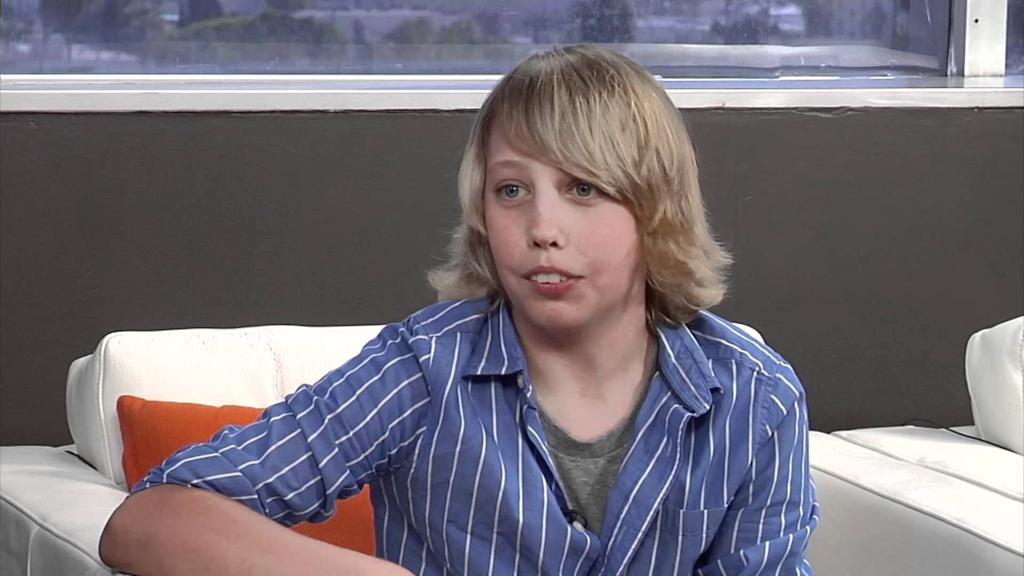face: (488, 120, 636, 334)
